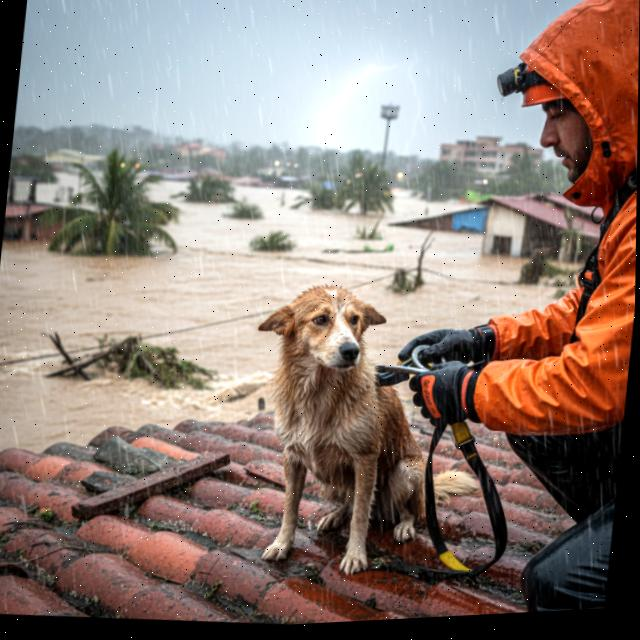dog: (215, 257, 463, 590)
rescuer: (370, 0, 640, 620)
